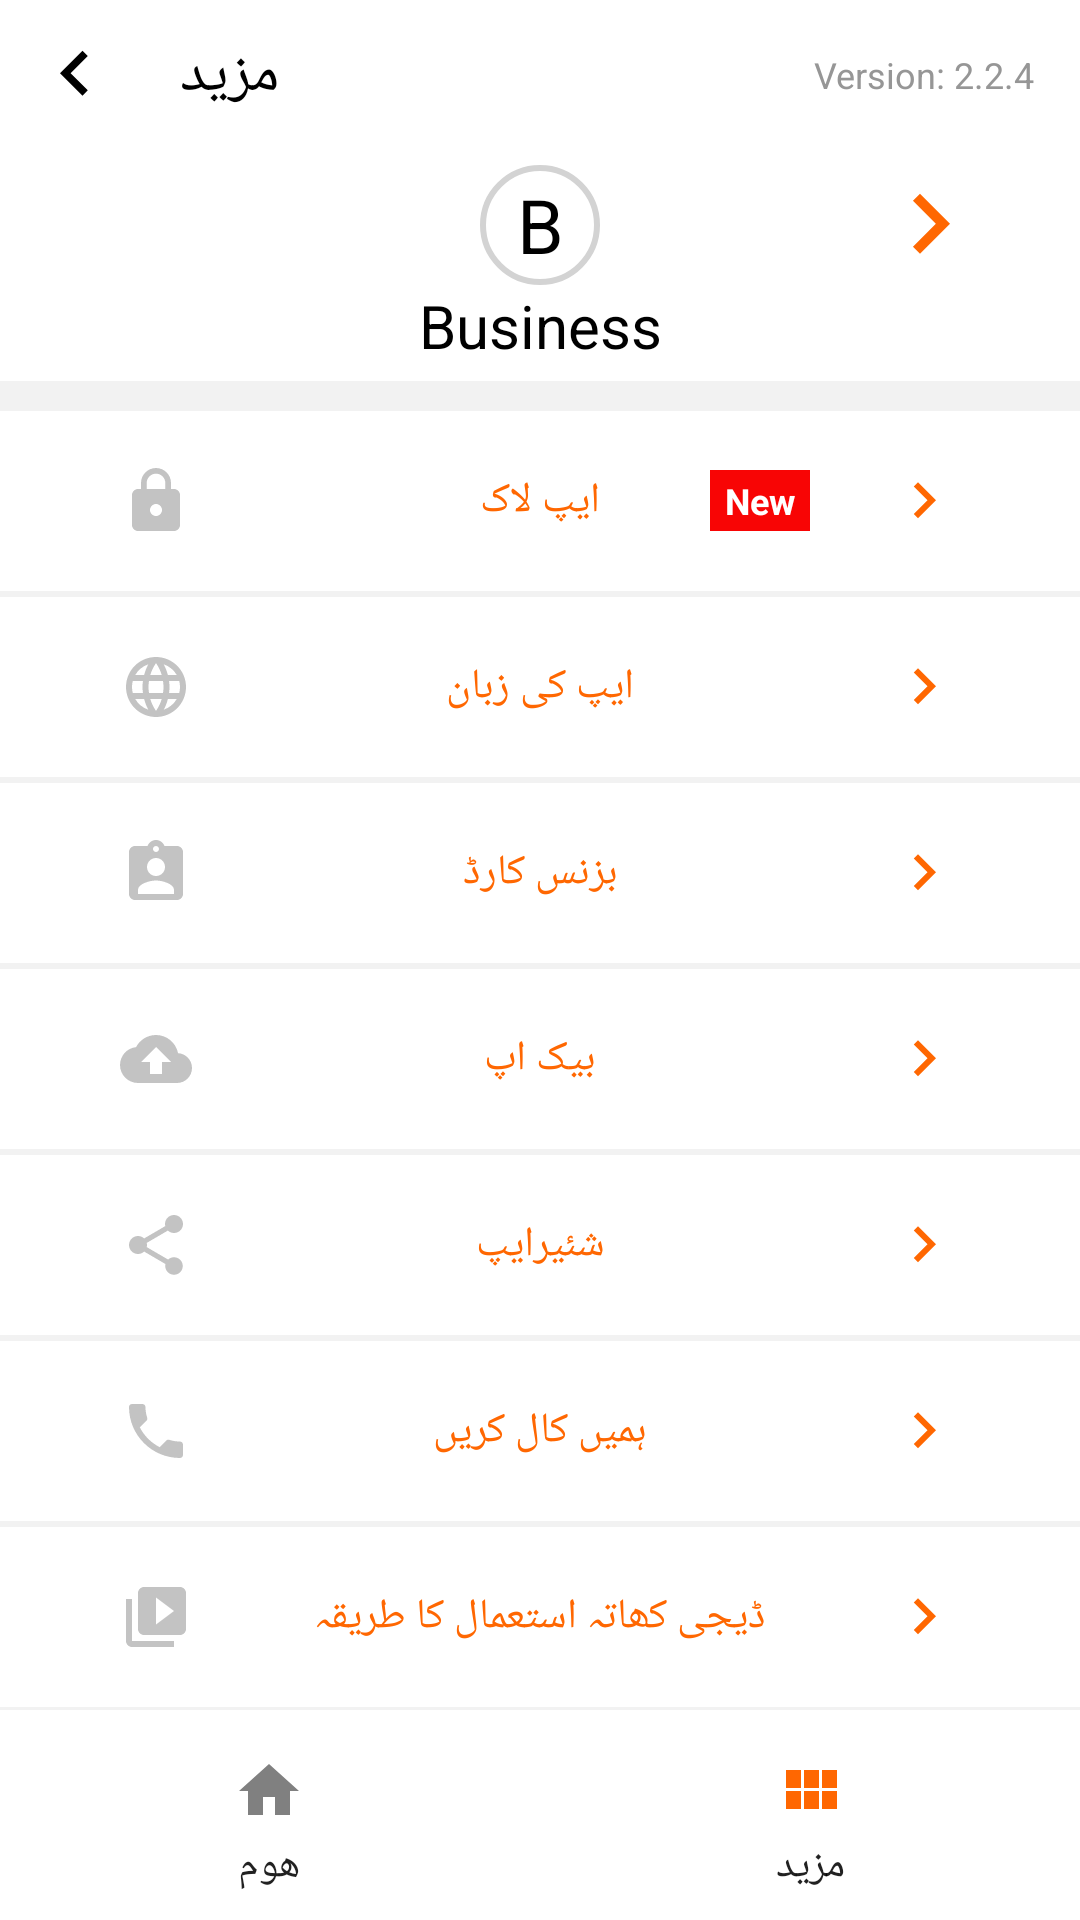

Where icons sit on this 1080px x 1920px app screen, as bbox=(x1, y1, x2, y2):
arrow back: bbox=(60, 51, 88, 96)
